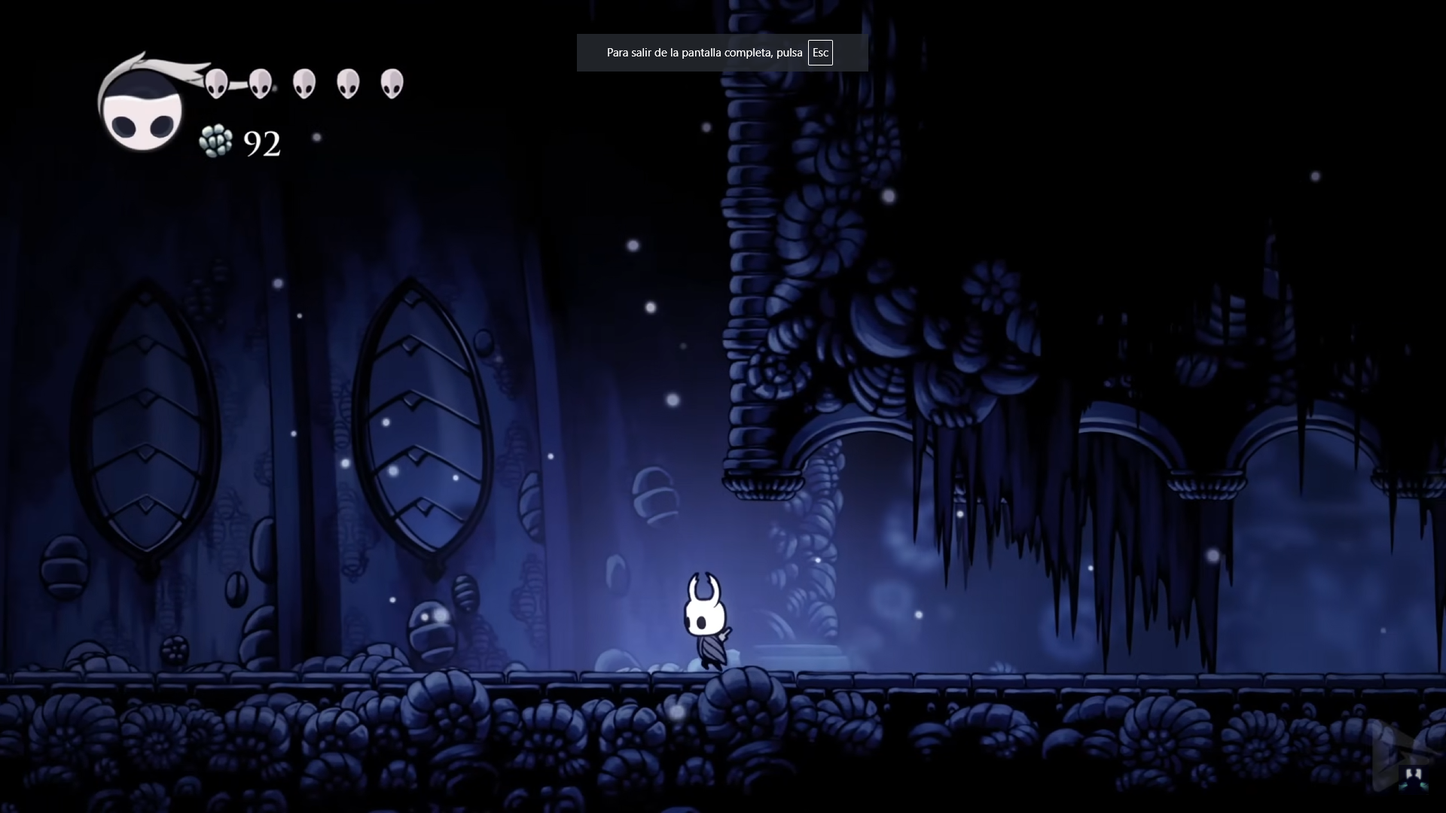HK: (674, 567, 737, 678)
